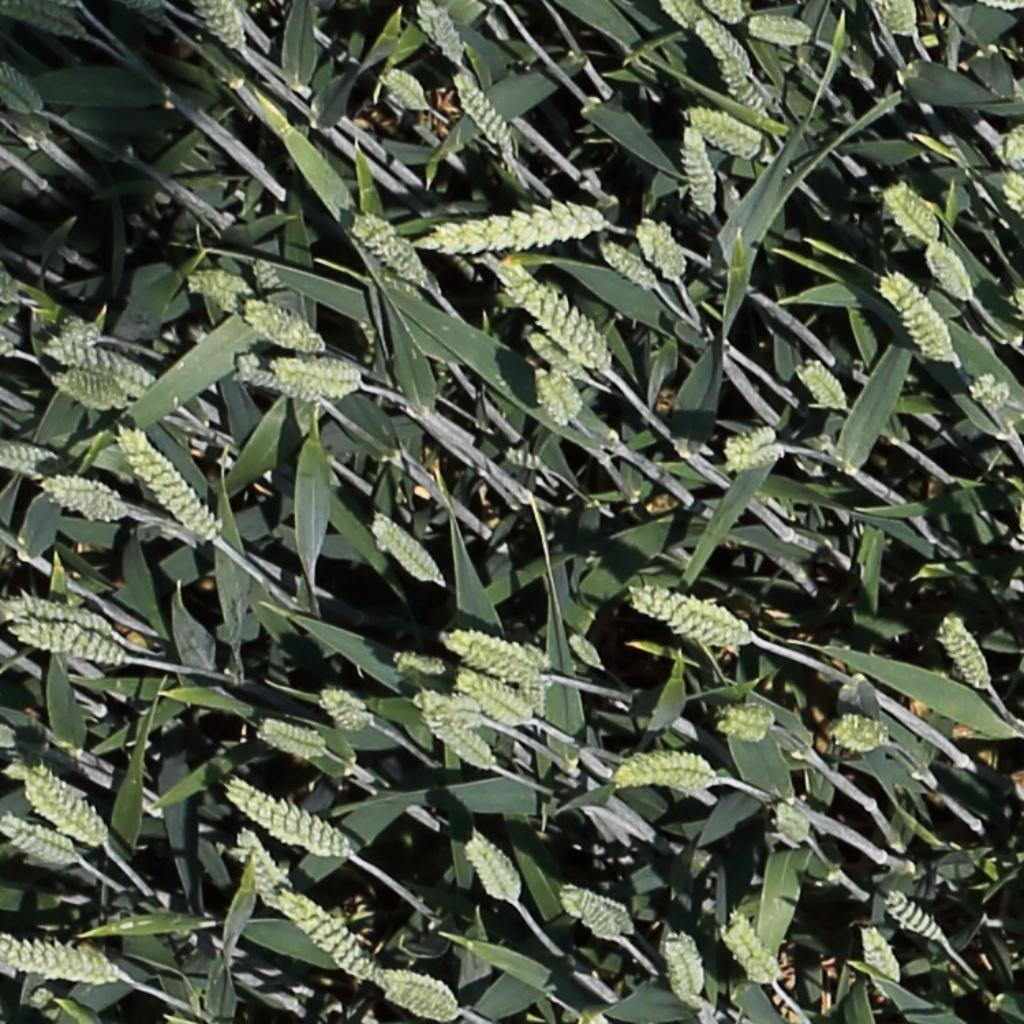0-0: (346, 188, 628, 296), (498, 262, 640, 393), (113, 427, 235, 559), (223, 783, 364, 862), (274, 888, 383, 988), (0, 429, 126, 511), (442, 610, 569, 690), (879, 268, 965, 380), (626, 587, 773, 651), (0, 928, 131, 991), (38, 341, 173, 401), (23, 770, 121, 849), (516, 323, 618, 398), (446, 66, 522, 159), (227, 344, 333, 410), (364, 964, 475, 1023), (611, 738, 733, 790), (271, 346, 380, 404), (232, 826, 297, 920), (935, 611, 996, 707), (921, 233, 987, 321), (50, 474, 152, 530), (681, 104, 776, 164), (454, 671, 547, 732), (9, 622, 137, 666), (368, 513, 442, 587), (882, 888, 960, 957), (238, 300, 329, 359), (719, 907, 783, 984), (424, 712, 502, 774), (50, 371, 144, 421), (679, 117, 722, 226), (693, 15, 762, 82), (1, 817, 86, 871), (461, 835, 524, 907), (711, 50, 771, 125), (527, 361, 592, 430), (256, 707, 335, 763), (2, 1, 100, 44), (249, 252, 305, 326), (717, 420, 790, 476), (6, 599, 113, 637), (880, 181, 942, 245), (558, 887, 626, 945), (794, 356, 856, 418), (661, 926, 706, 1011), (641, 211, 686, 291), (596, 238, 663, 291), (853, 920, 903, 991), (415, 0, 465, 70), (708, 698, 782, 745), (828, 703, 895, 754), (0, 58, 57, 115), (772, 798, 826, 856), (193, 0, 246, 59), (378, 65, 440, 115), (965, 362, 1020, 416), (516, 642, 549, 730), (184, 266, 252, 308), (315, 689, 380, 732), (871, 0, 926, 50), (745, 17, 822, 48), (415, 693, 479, 724), (562, 629, 606, 674), (662, 0, 714, 36), (613, 981, 646, 1024), (390, 653, 446, 675), (705, 0, 752, 26), (1010, 472, 1024, 534), (998, 552, 1024, 575)
